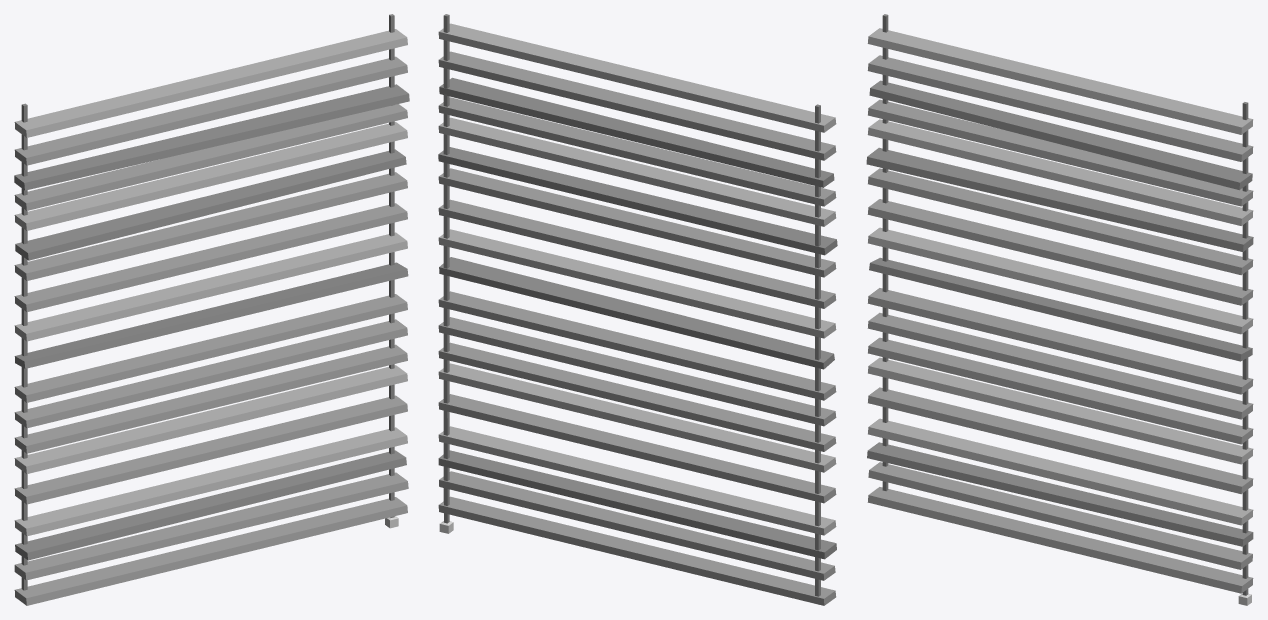
Rendered from SM_Bld_Wall_Glass_Window_Blinds_Open_01.glb.
3 views of the same model, side by side, from view 1: azimuth 30°, elevation 25°; view 2: azimuth 150°, elevation 25°; view 3: azimuth 330°, elevation 25° (orthographic). The views are drawn at different scales.
Parts seen in each view (by area): view 1: SM_Bld_Wall_Glass_Window_Blinds_Open_01; view 2: SM_Bld_Wall_Glass_Window_Blinds_Open_01; view 3: SM_Bld_Wall_Glass_Window_Blinds_Open_01.
Part boxes in pixels (x1,y1,x2,y2): SM_Bld_Wall_Glass_Window_Blinds_Open_01: (14,14,409,605); SM_Bld_Wall_Glass_Window_Blinds_Open_01: (438,14,837,605); SM_Bld_Wall_Glass_Window_Blinds_Open_01: (866,14,1253,605).
Bounding box in the file's own units: 2.21 × 2.82 × 0.1463.
Materials: 1 (1 with a texture image).
